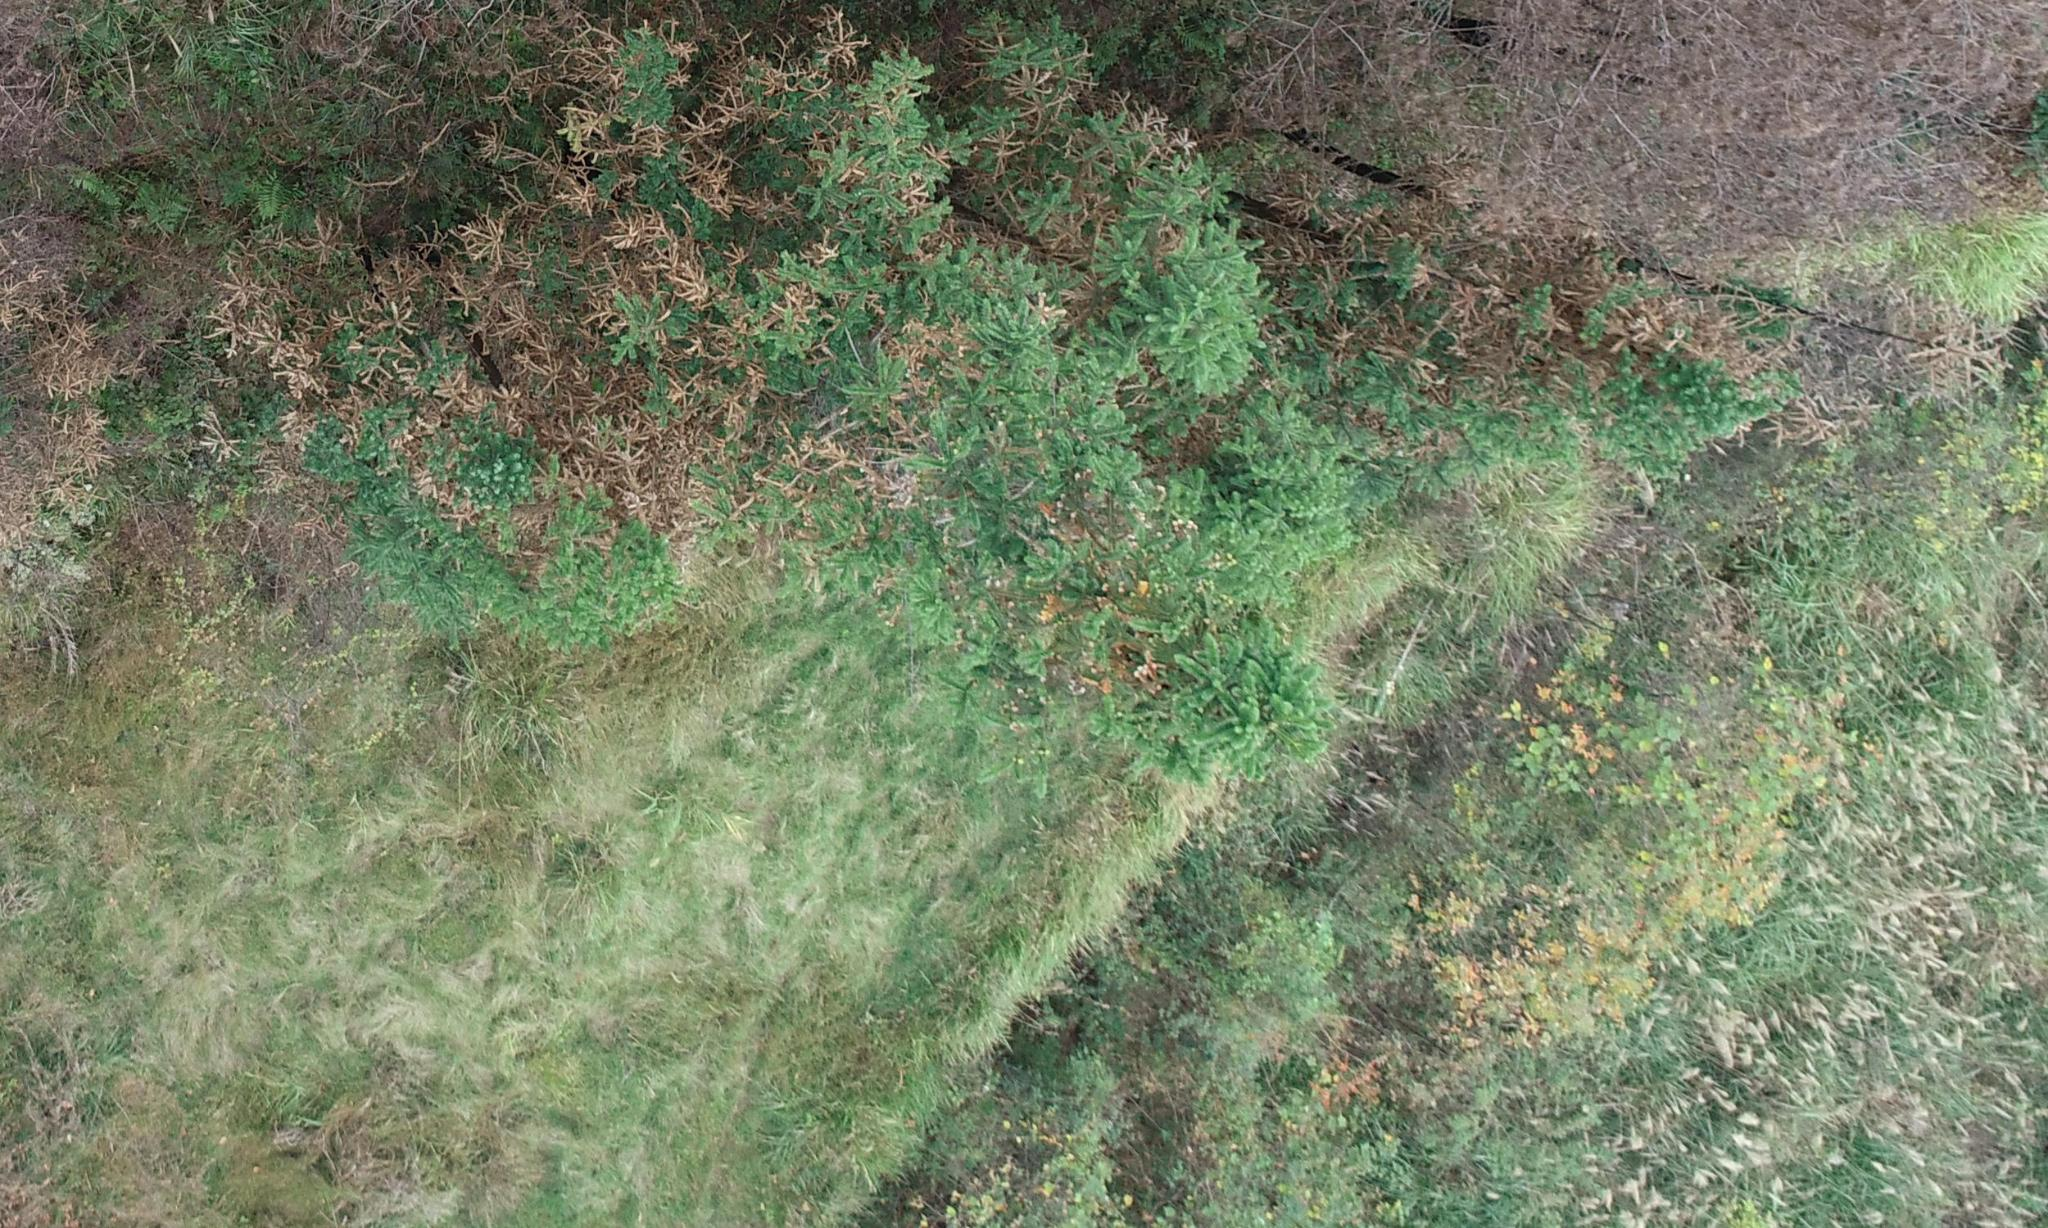dead: (1351, 0, 2048, 440)
light: (170, 1, 1323, 620)
